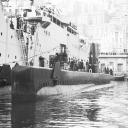submarine: (13, 43, 116, 98)
